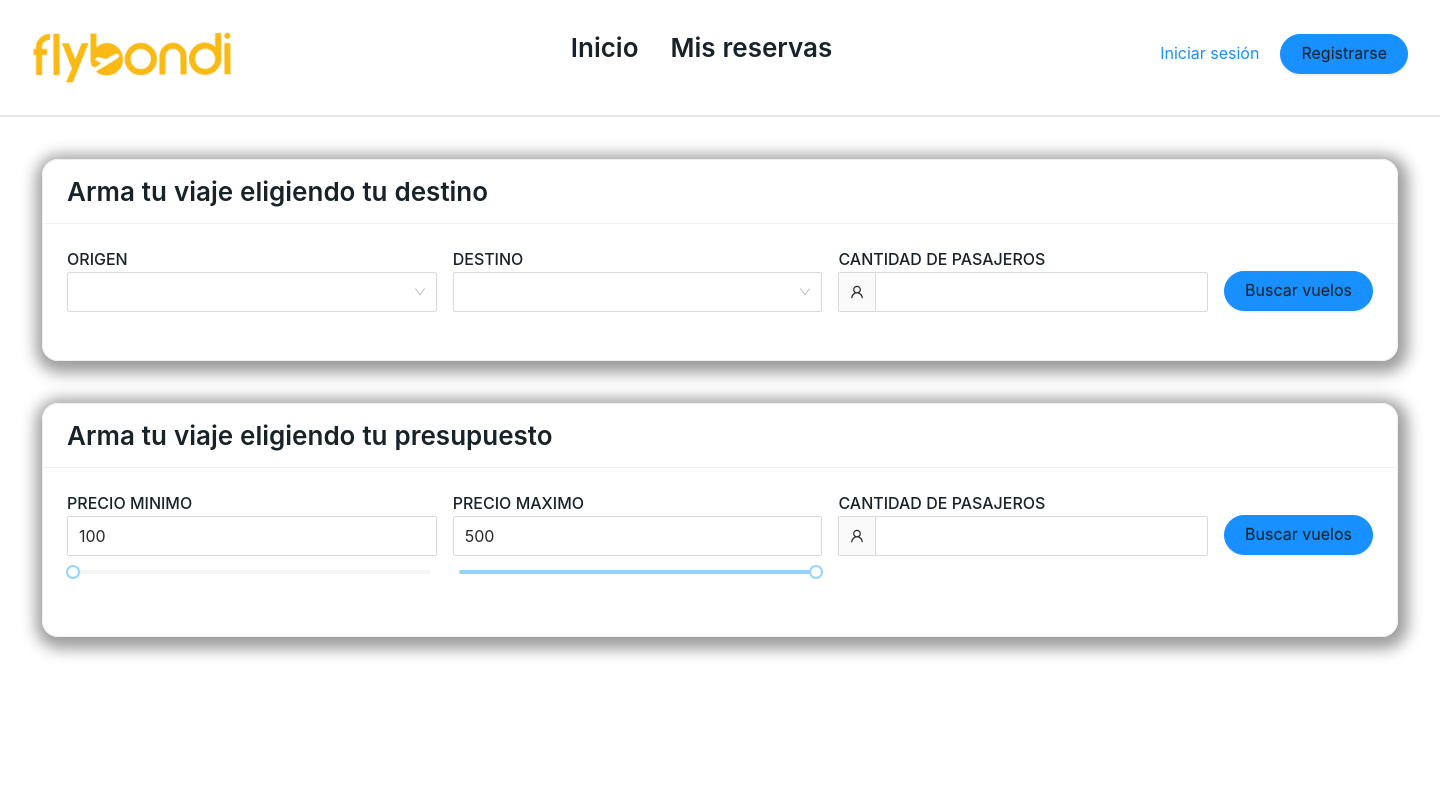
Test: Home testing › Search by price (160 - 250) › Search with empty inputs
Click the button with id "buttonSubmitByPrice" at {"x": 1299, "y": 535}, box [1224,515,1373,555]
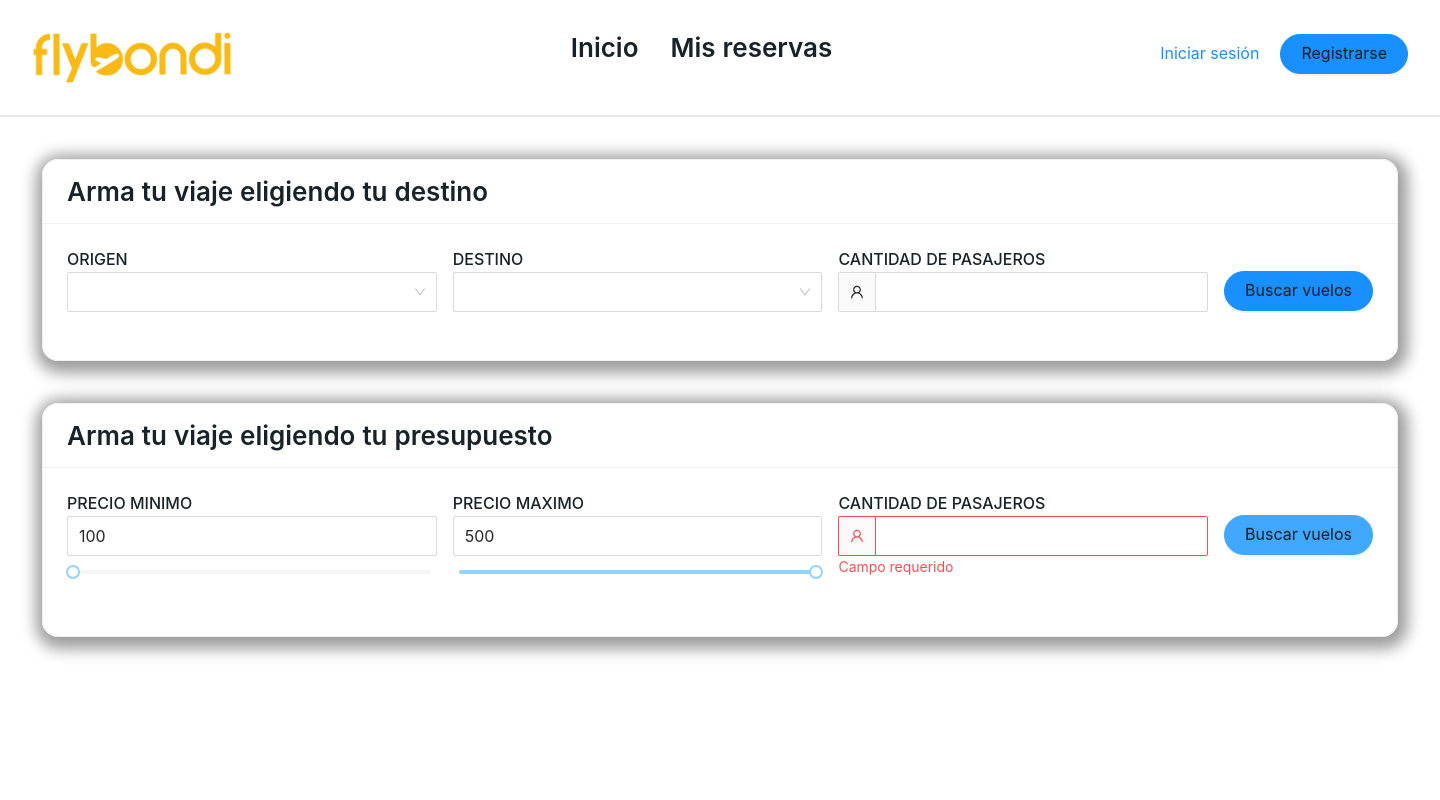
Expected: the text "Campo requerido" is shown, [838,558,954,575]
